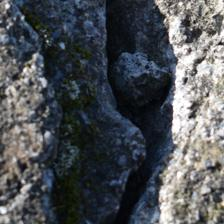Crack: (46, 5, 156, 213)
